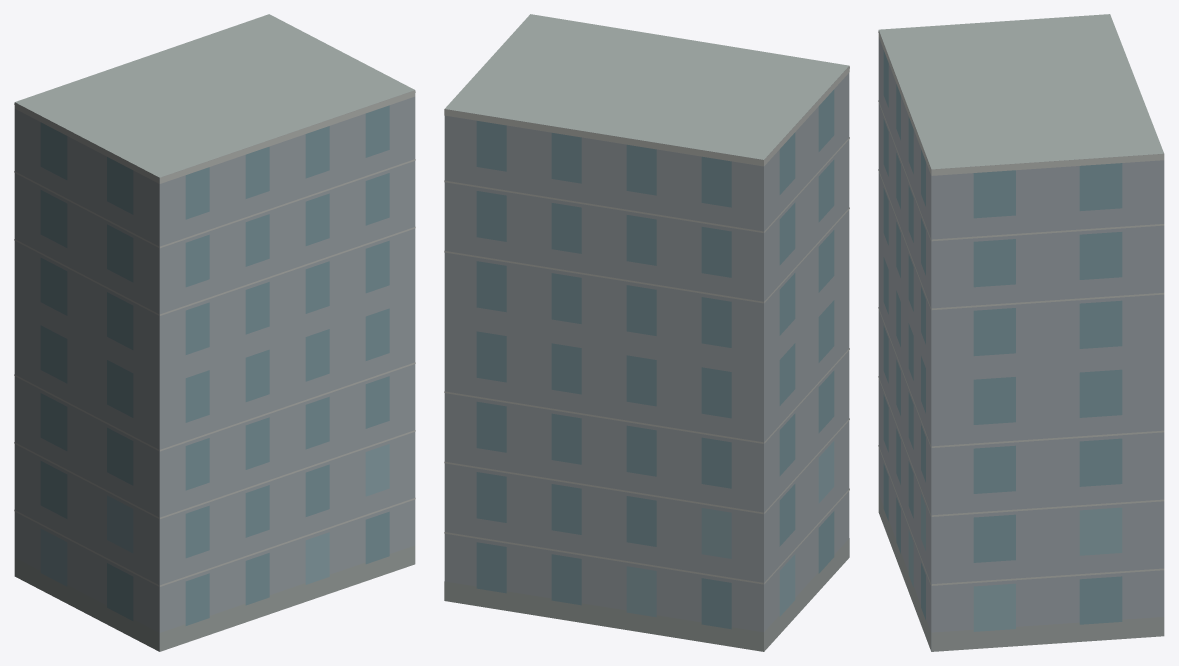
File: survey-upis-32915949.glb
3 views of the same model, side by side, from view 1: azimuth 30°, elevation 25°; view 2: azimuth 150°, elevation 25°; view 3: azimuth 270°, elevation 25° (orthographic). The views are drawn at different scales.
Parts seen in each view (by area): view 1: survey-upis-32915949.tmp; view 2: survey-upis-32915949.tmp; view 3: survey-upis-32915949.tmp.
Boxes of the visible parts, x1,y1,x2,y2 form: survey-upis-32915949.tmp: (14, 14, 415, 651); survey-upis-32915949.tmp: (444, 14, 849, 651); survey-upis-32915949.tmp: (878, 14, 1164, 651).
Bounding box in the file's own units: 12.53 × 18.1 × 9.74.
